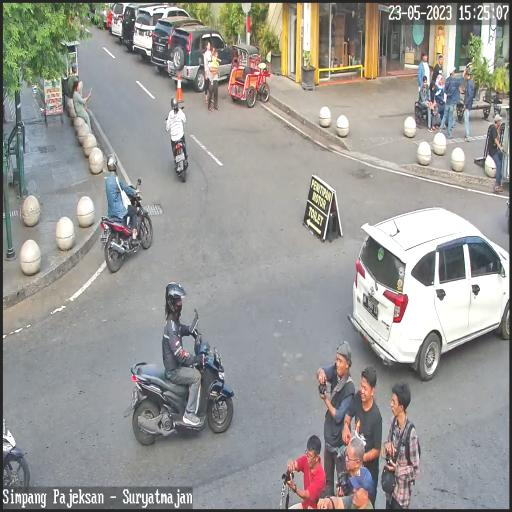mobil: (351, 204, 512, 371), (170, 23, 232, 88), (134, 6, 194, 68), (153, 13, 205, 70)
motor: (127, 318, 236, 450), (95, 180, 151, 268), (164, 110, 191, 186)
